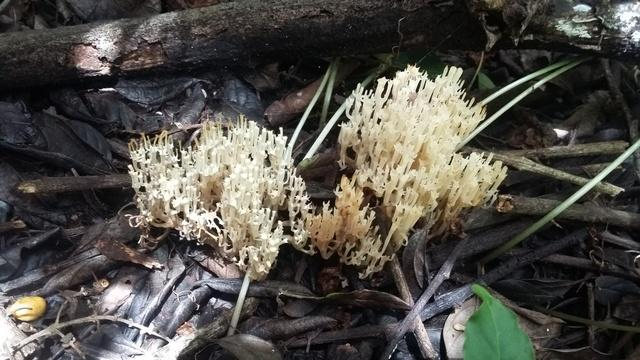edible_mushroom: (298, 62, 508, 278), (125, 112, 313, 281)
